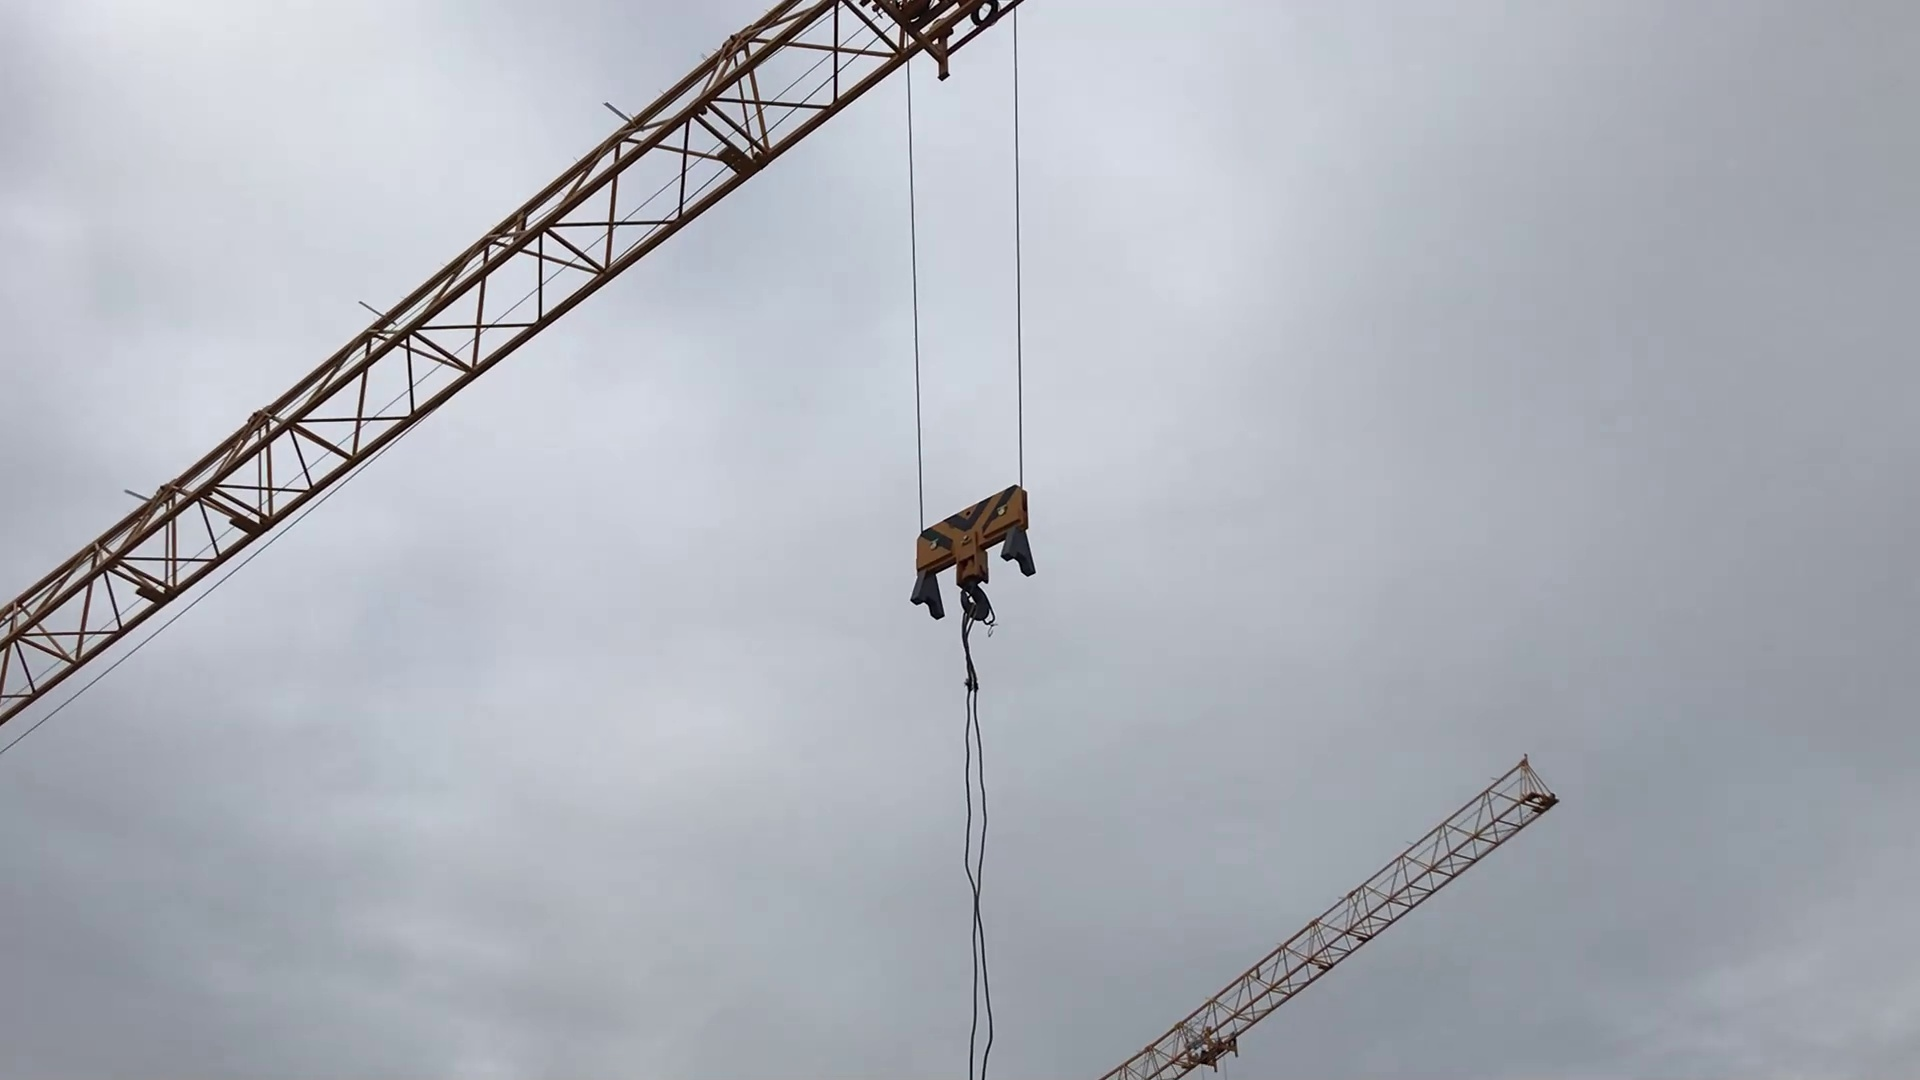hook: (899, 483, 1056, 636)
